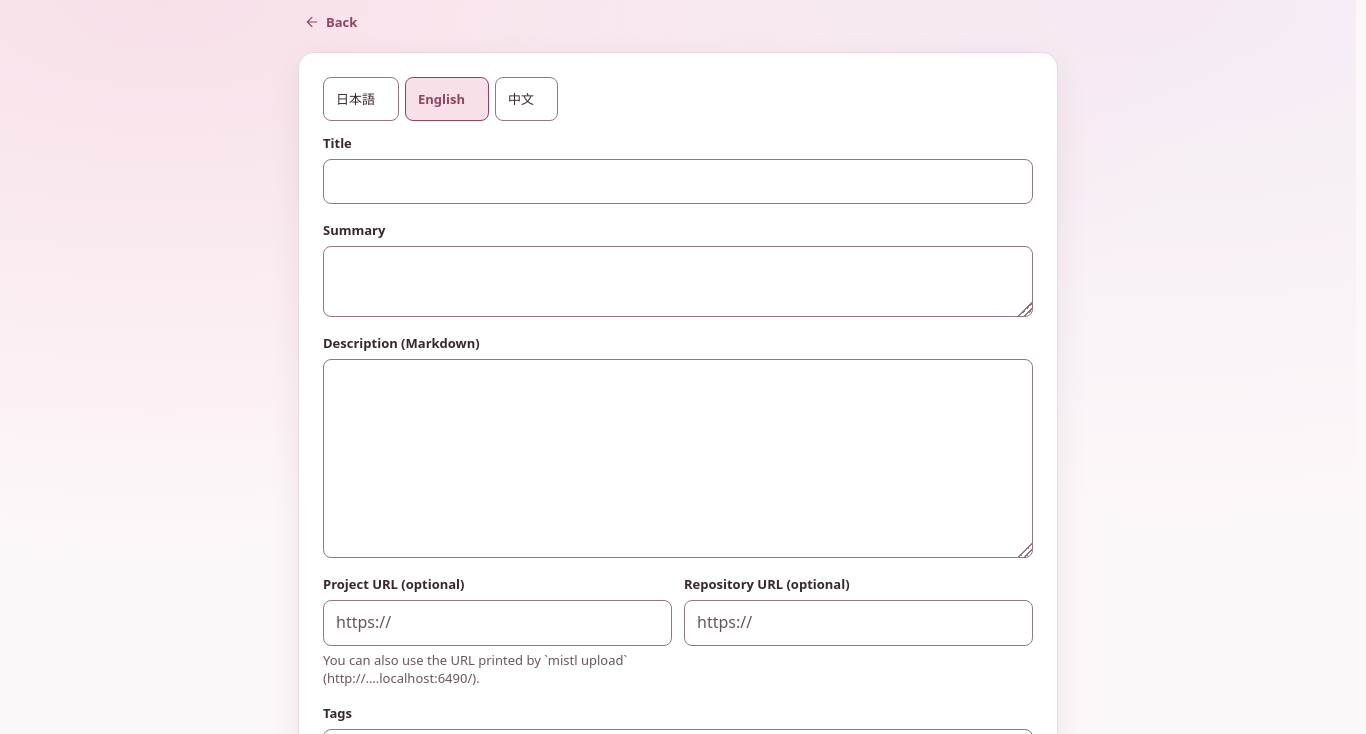
Scenario: opens the incomplete language and publishes the translations and pending tag once complete
Later steps or results of the test are not shown.
Press ArrowRight in the tab "English", box [405,77,489,121]
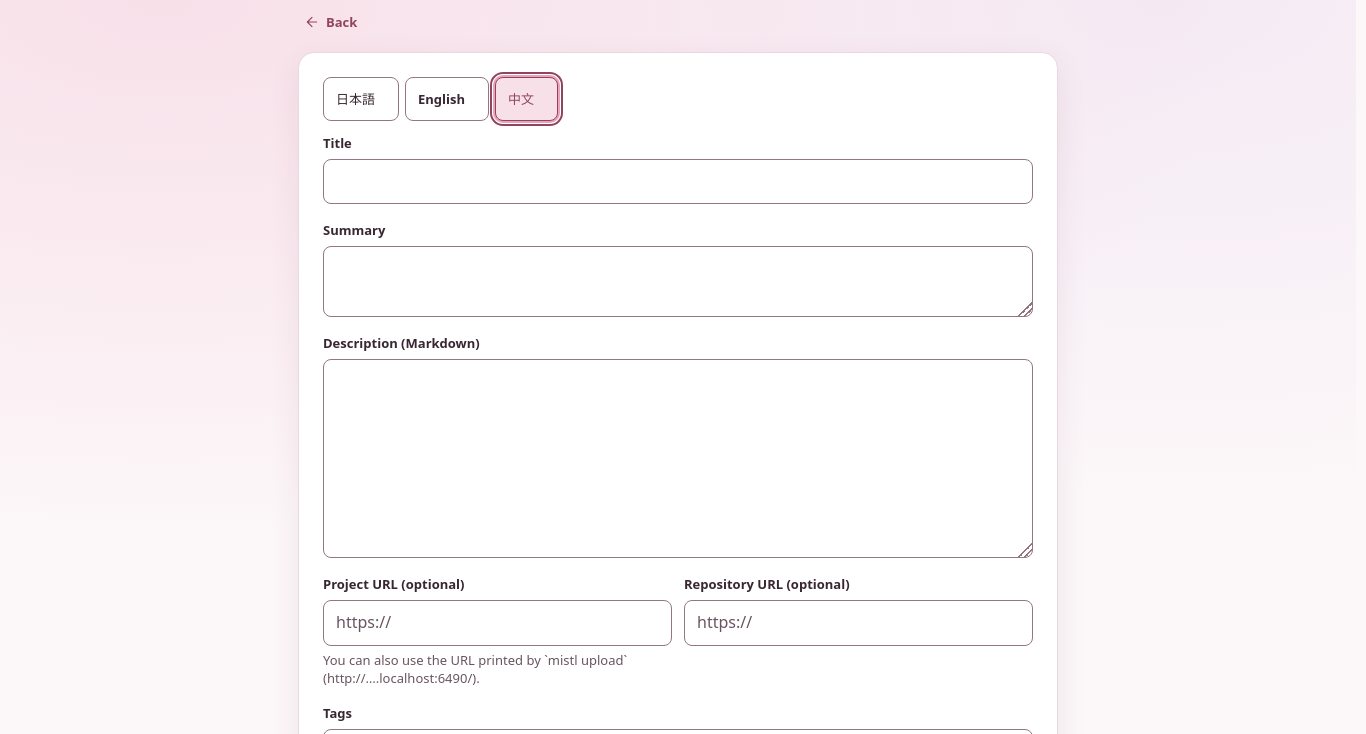
Type "中文概要" into the text box labelled "Summary" at (678, 282), box [323,246,1033,317]
Click the tab "English" at (447, 99), box [405,77,489,121]
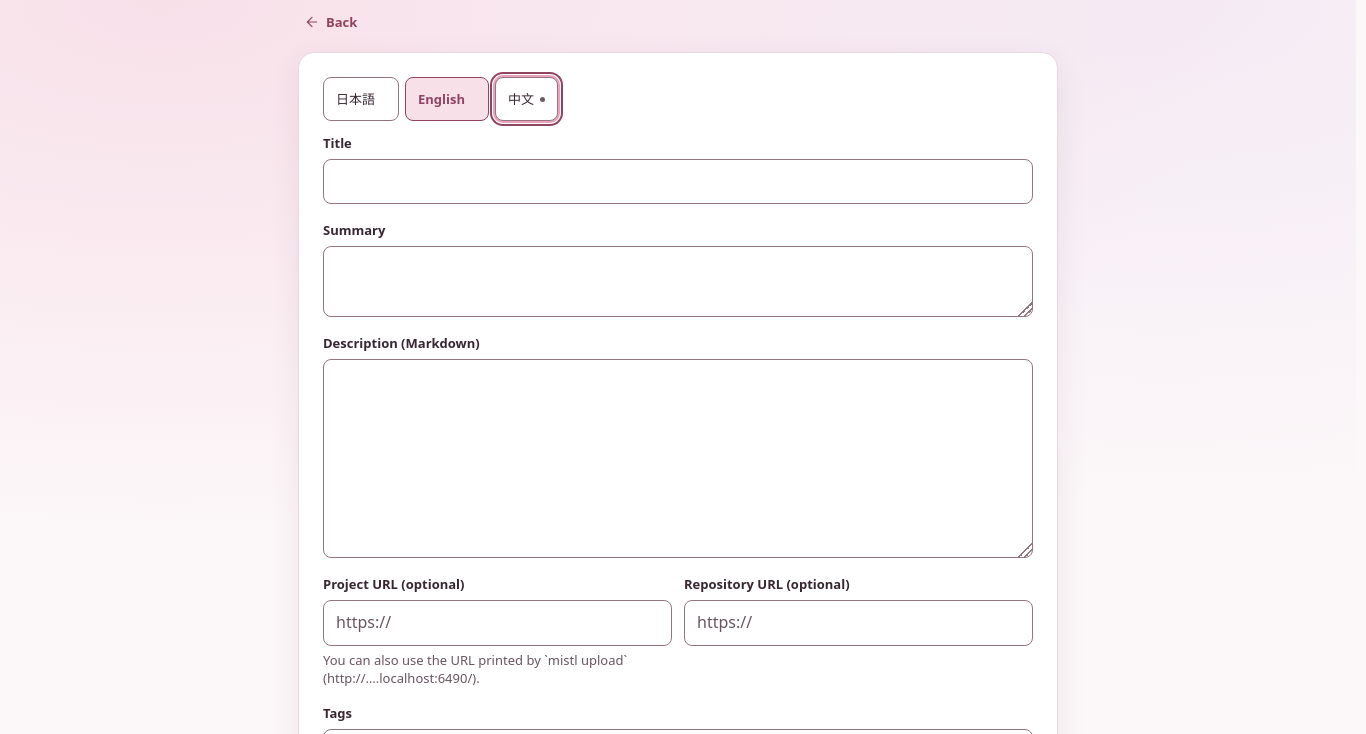
Type "English title" into the field labelled "Title" at (678, 182), box [323,159,1033,204]
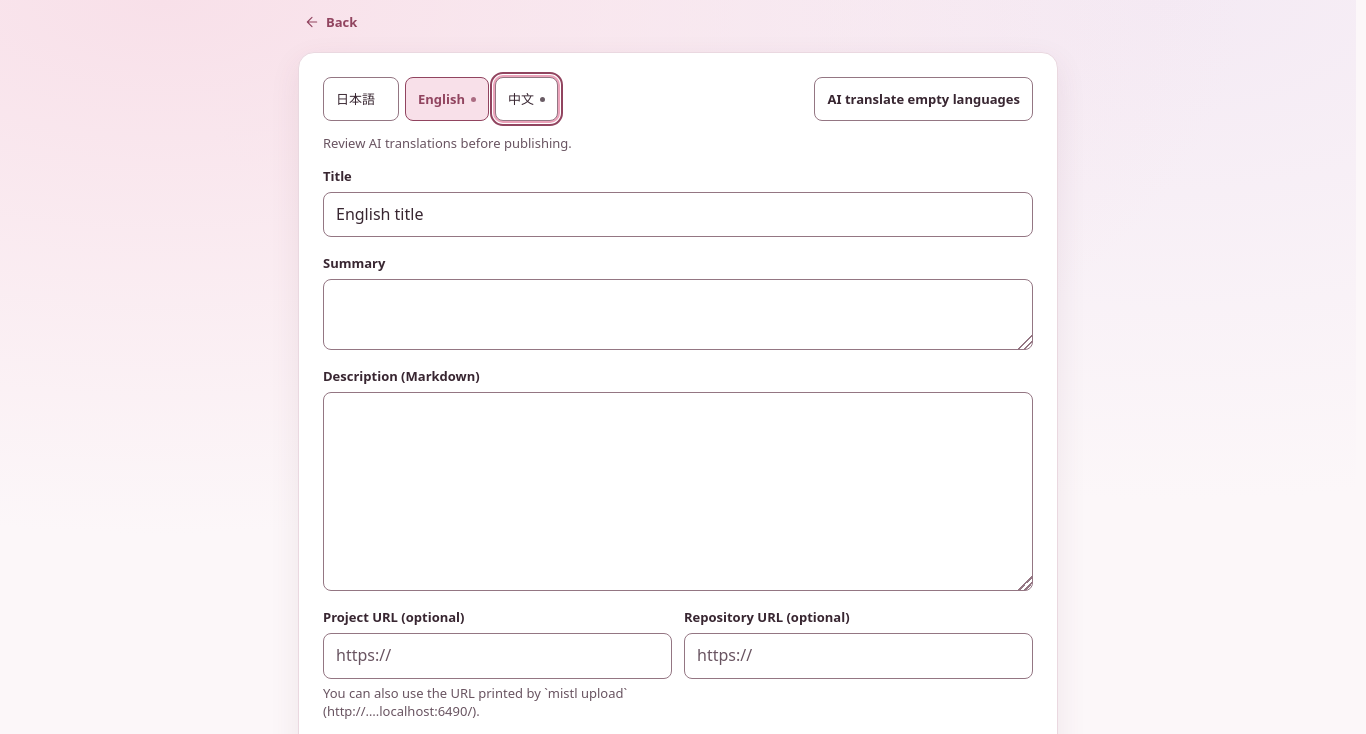
Type "English summary" into the text box labelled "Summary" at (678, 315), box [323,279,1033,350]
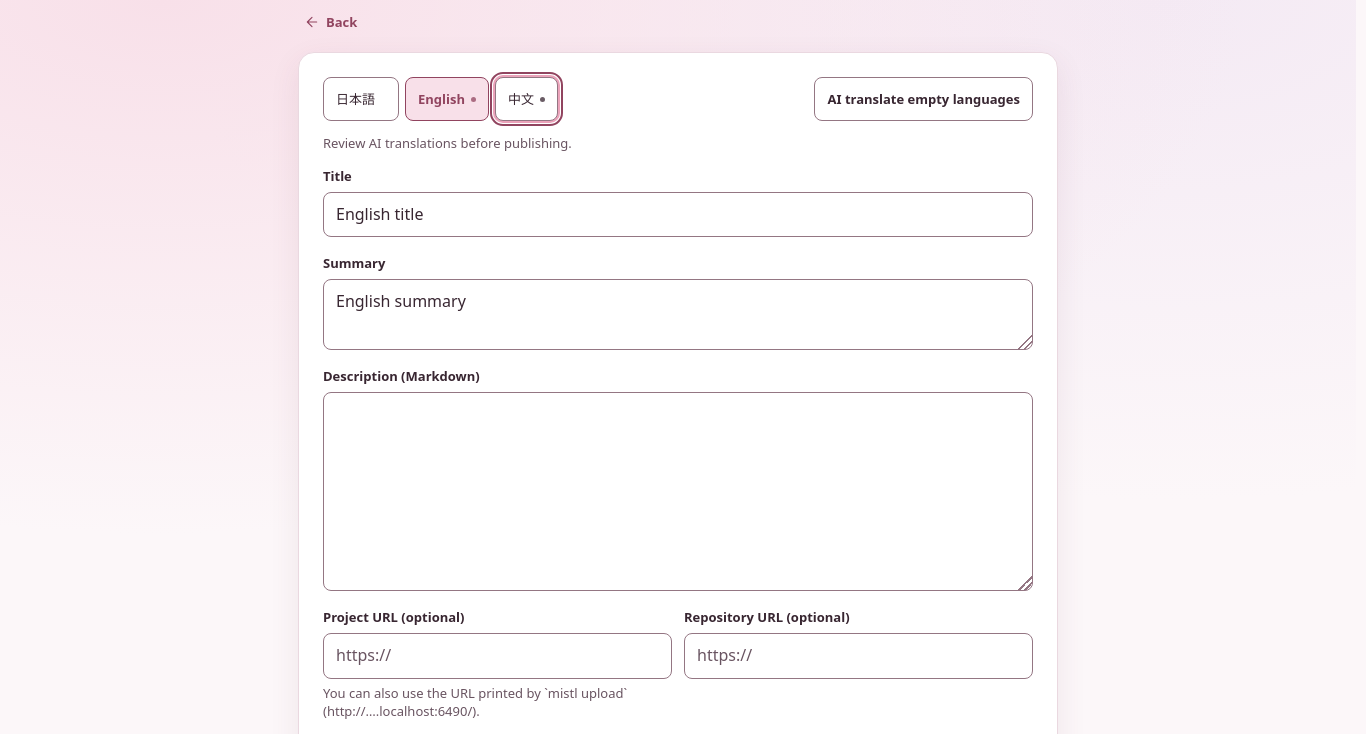
Type "https://project.example" into the 2nd field at (498, 656), box [323,633,672,678]
(page scrolled)
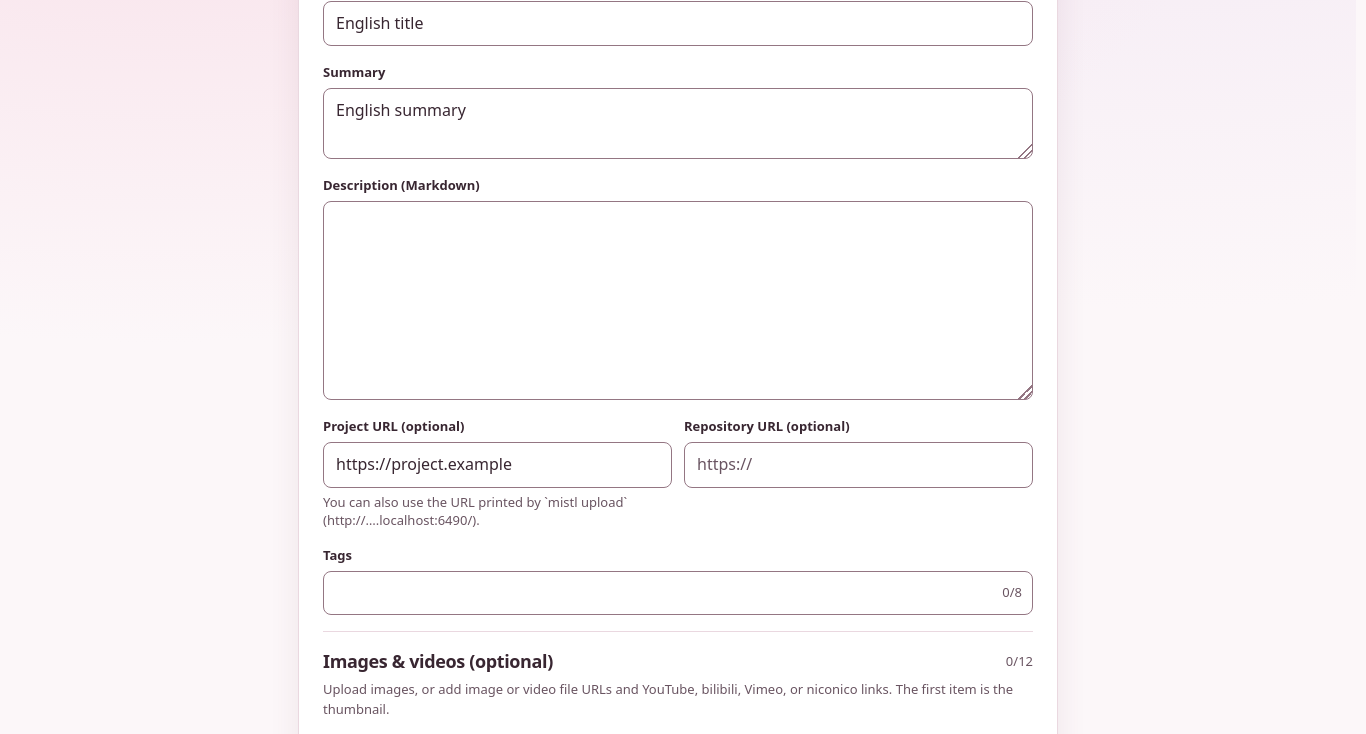
Submit the form
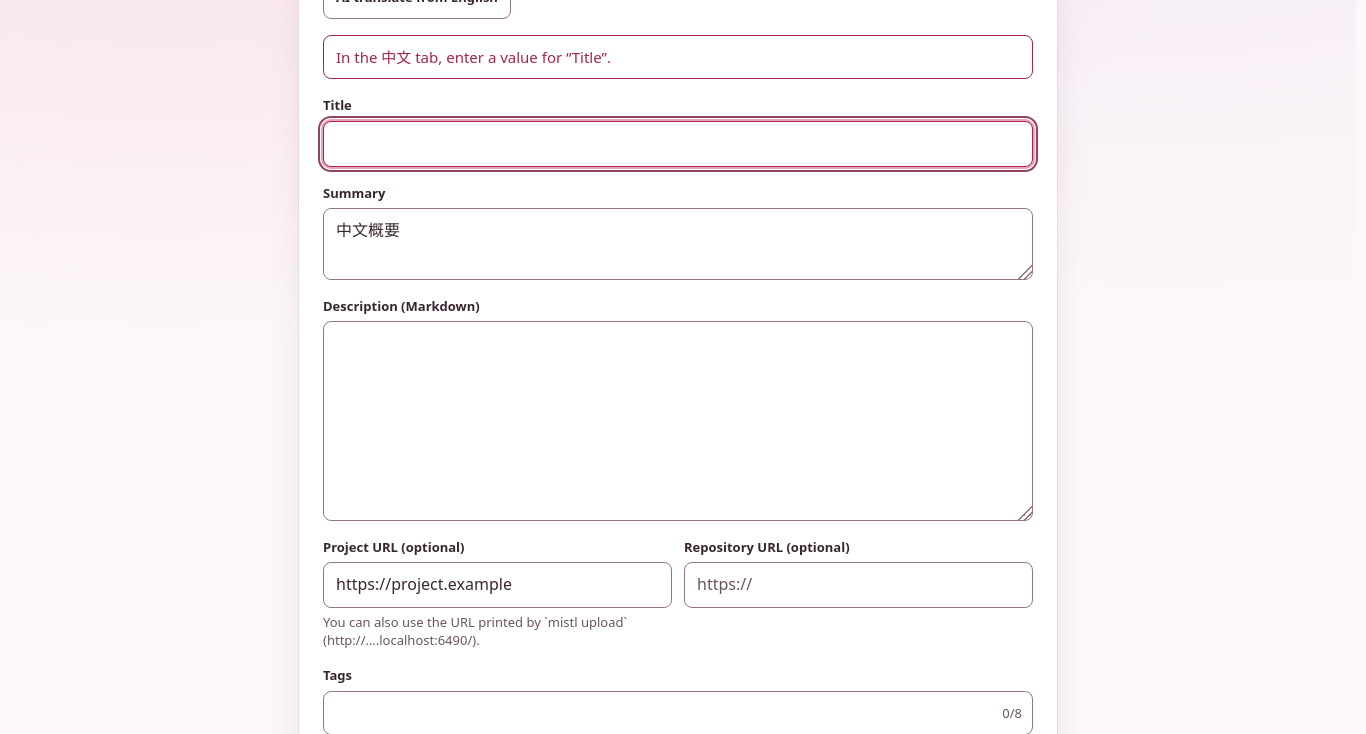
Expected: the message "In the 中文 tab, enter a value for “Title”." is shown, [323,35,1033,79]
